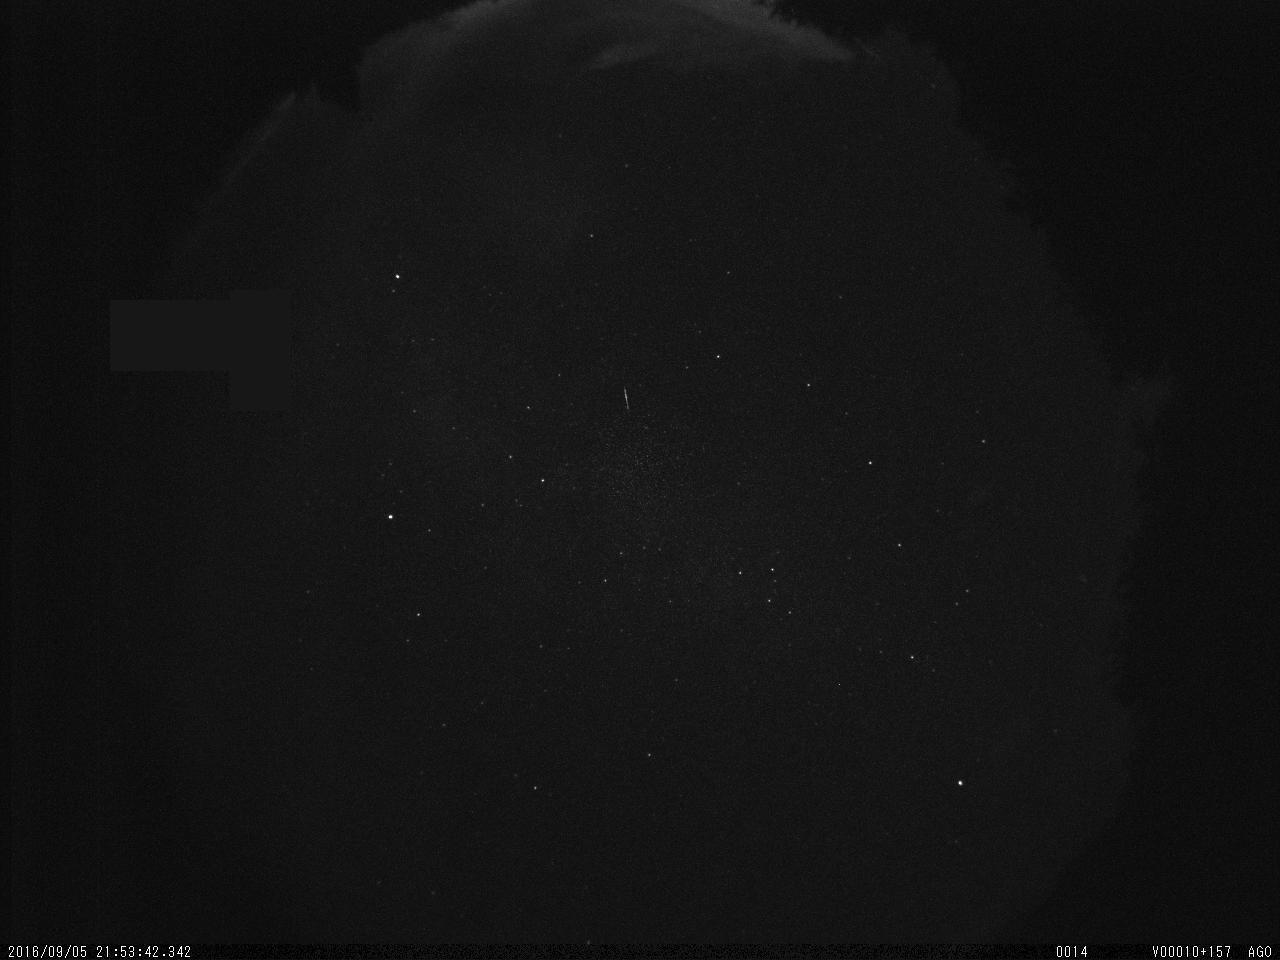meteor: (616, 383, 640, 416)
